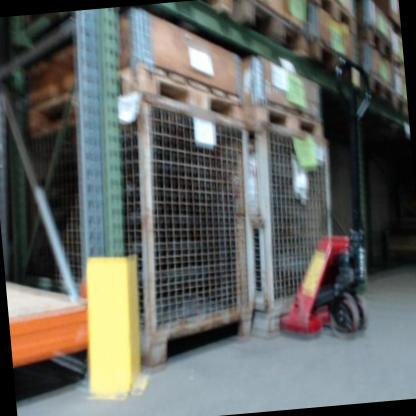pallet: (23, 54, 242, 140), (224, 0, 308, 60), (241, 88, 324, 148), (301, 34, 360, 90), (171, 0, 240, 25), (308, 0, 355, 32), (362, 20, 394, 63), (363, 65, 397, 105)
pallet_truck: (253, 48, 397, 340)
stillage: (0, 78, 259, 381), (226, 100, 360, 345)
